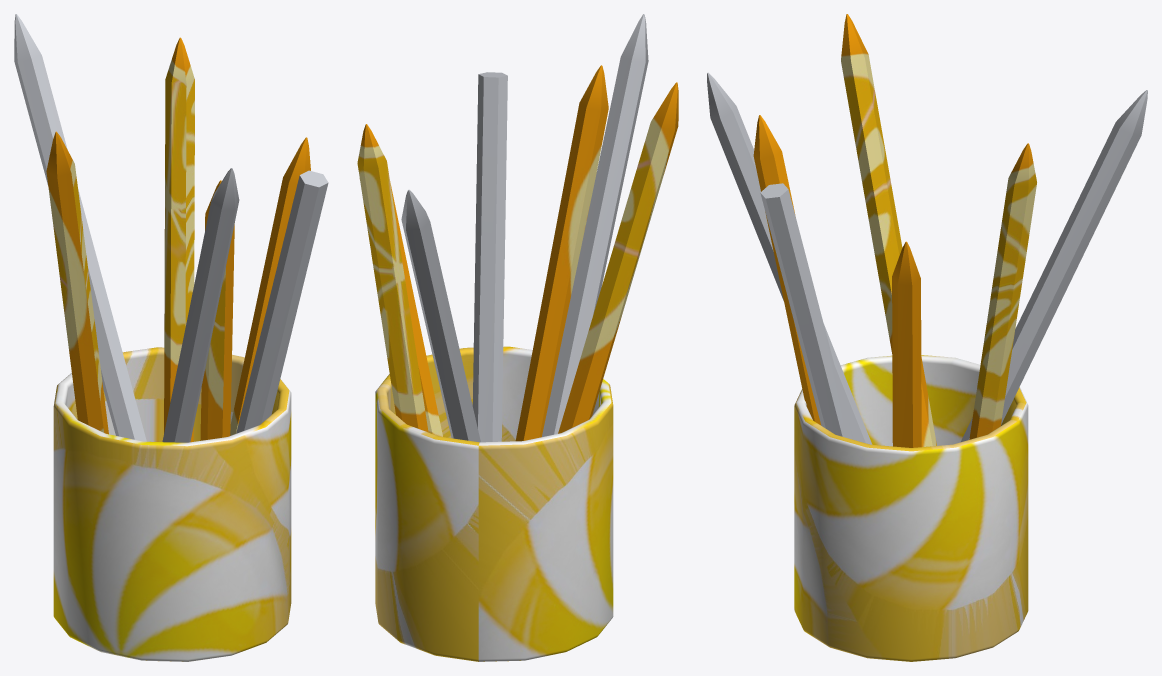
File: pencilholder.fbx
3 renders of one model, left to right at view 1: azimuth 30°, elevation 25°; view 2: azimuth 150°, elevation 25°; view 3: azimuth 270°, elevation 25°, orthographic. The views are drawn at different scales.
Visible parts, largest first — view 1: Penholder.001_2; view 2: Penholder.001_2; view 3: Penholder.001_2.
Boxes of the visible parts, x1=… form: Penholder.001_2: x1=14, y1=14, x2=328, y2=661; Penholder.001_2: x1=357, y1=14, x2=678, y2=661; Penholder.001_2: x1=707, y1=14, x2=1147, y2=661.
Bounding box in the file's own units: 13.83 × 24.94 × 18.84.
